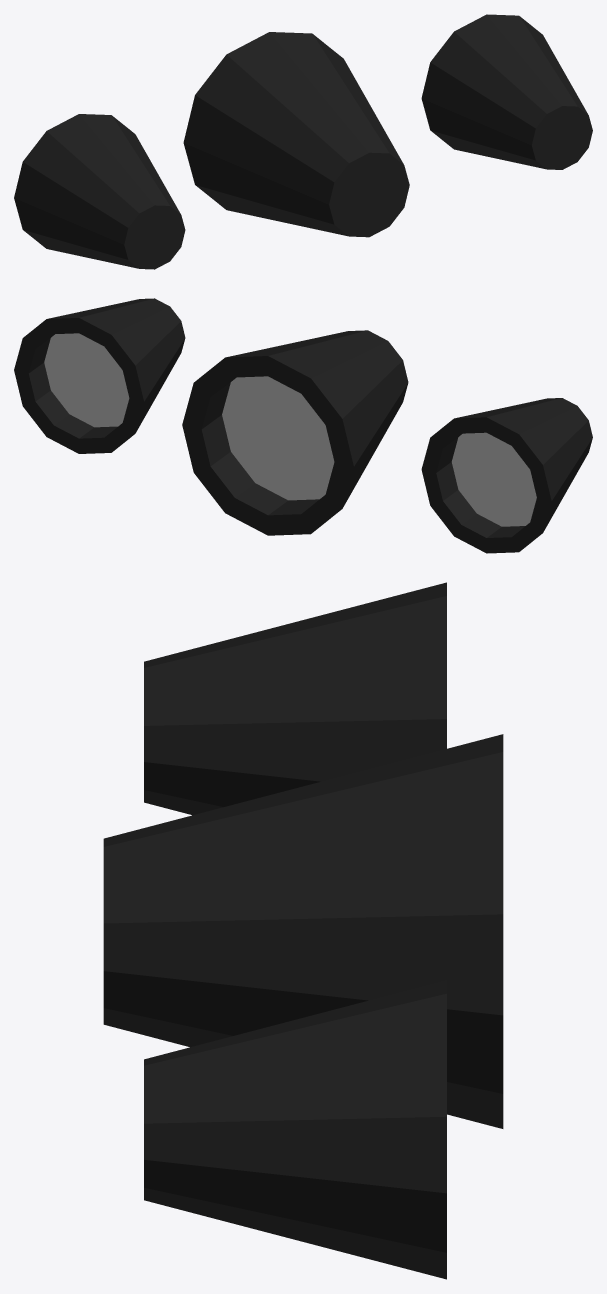
Rendered from exhaust3.glb.
3 views of the same model, one above another, from view 1: azimuth 30°, elevation 25°; view 2: azimuth 150°, elevation 25°; view 3: azimuth 270°, elevation 25° (orthographic). The views are drawn at different scales.
Parts seen in each view (by area): view 1: exhaust3; view 2: exhaust3; view 3: exhaust3.
Part boxes in pixels (x1,y1,x2,y2): exhaust3: (14,14,592,269); exhaust3: (14,298,592,553); exhaust3: (103,582,503,1279).
Bounding box in the file's own units: 1.17 × 0.3751 × 0.3781.
Materials: 1 (1 with a texture image).
